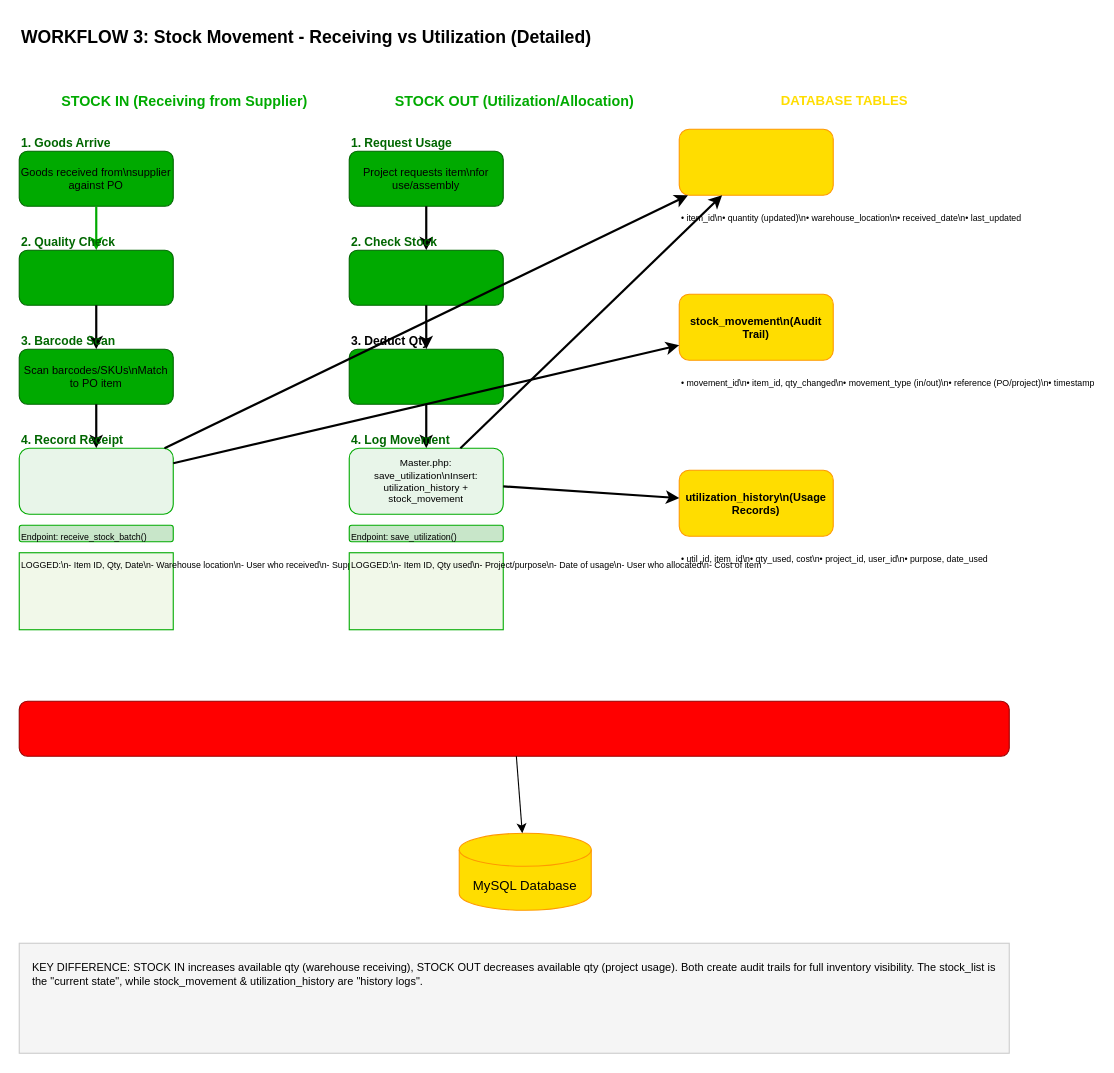
Some shapes in this 1114 by 1073 pixel diagram are drawn without their labels. Here are the shapes that lost their labels. From the top down, the centre of each, then its label:
At (x=755, y=161): "stock_list\n(Current Inventory)".
At (x=95, y=277): "Inspect goods for\ndamage/defects".
At (x=425, y=277): "Query stock_list for\navailable quantity".
At (x=425, y=376): "Reduce stock_list qty\nby utilization amount".
At (x=95, y=480): "Master.php: receive_stock_batch\nUpdate: stock_list + stock_movement".
At (x=513, y=728): "Master.php Hub\n(Executes all operations)".
